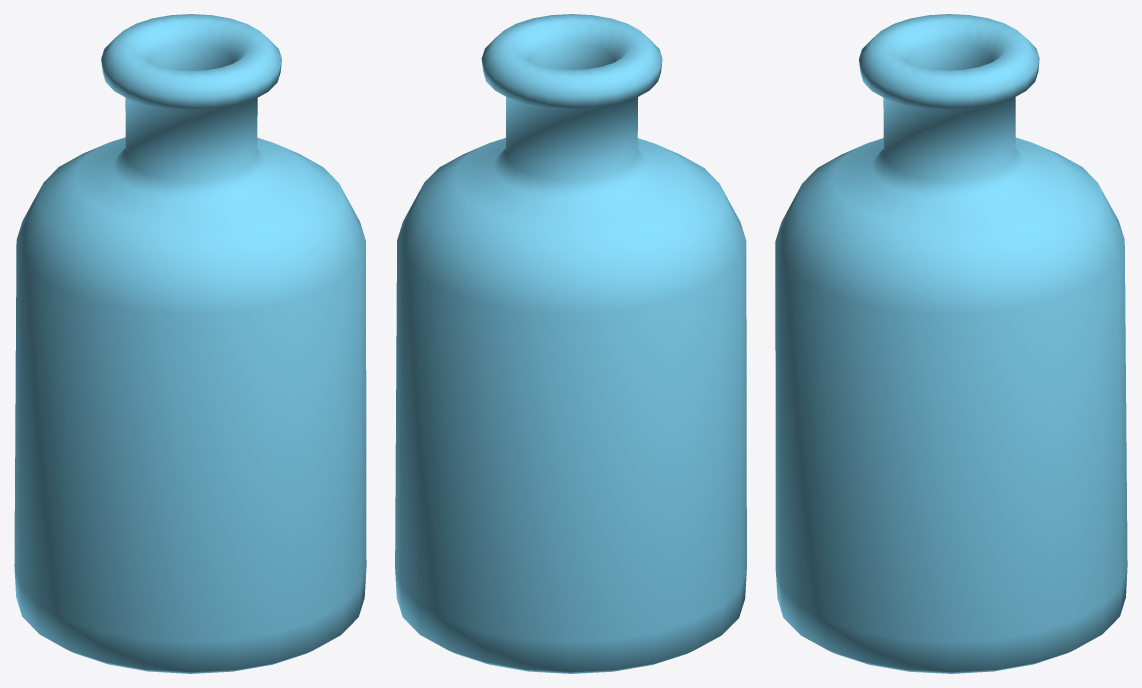
File: Flask, Cylindrical, Short Neck.fbx
3 views of the same model, side by side, from view 1: azimuth 30°, elevation 25°; view 2: azimuth 150°, elevation 25°; view 3: azimuth 270°, elevation 25° (orthographic).
Parts seen in each view (by area): view 1: Flask, Cylindrical, Short Neck_LOD0; view 2: Flask, Cylindrical, Short Neck_LOD0; view 3: Flask, Cylindrical, Short Neck_LOD0.
Part boxes in pixels (box(x1,y1,x2,y2)): Flask, Cylindrical, Short Neck_LOD0: box(14, 14, 366, 673); Flask, Cylindrical, Short Neck_LOD0: box(395, 14, 746, 673); Flask, Cylindrical, Short Neck_LOD0: box(775, 14, 1127, 673).
Size of what is drawn, in the model's own units: 0.4261 by 0.7483 by 0.4263.
